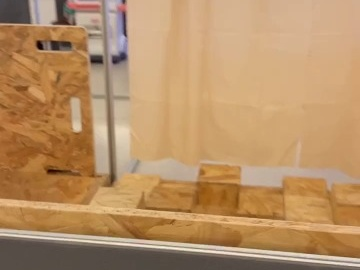curtain: (115, 0, 360, 162)
